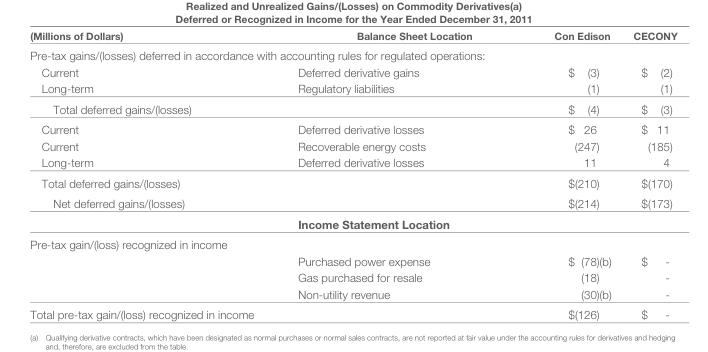table: (29, 28, 676, 320)
table column: (29, 28, 275, 320), (275, 28, 512, 320), (512, 28, 621, 320), (621, 28, 676, 320)
table column header: (29, 28, 676, 44)
table projected row header: (29, 44, 676, 62), (29, 233, 676, 251)
table row: (29, 212, 676, 233), (29, 98, 676, 118), (29, 172, 676, 192), (29, 192, 676, 212), (29, 79, 676, 98), (29, 118, 676, 137), (29, 153, 676, 172), (29, 44, 676, 62), (29, 233, 676, 251), (29, 285, 676, 303), (29, 62, 676, 79), (29, 251, 676, 268), (29, 268, 676, 285), (29, 303, 676, 320), (29, 28, 676, 44), (29, 137, 676, 153)
table spanning cell: (29, 192, 275, 233)
